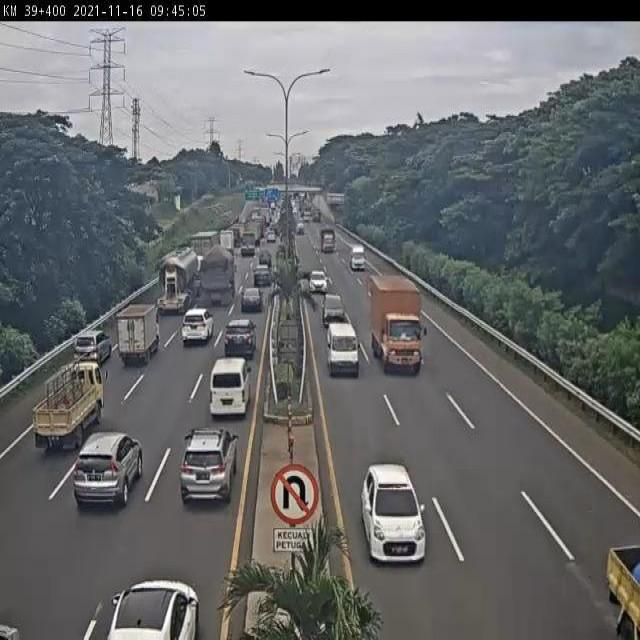car: (360, 464, 426, 563), (180, 430, 238, 510), (73, 437, 142, 503), (326, 320, 359, 375), (73, 331, 112, 366), (224, 319, 256, 356), (182, 310, 214, 346), (322, 292, 343, 325), (241, 285, 263, 315), (309, 268, 327, 292), (252, 265, 271, 287)
small bus: (204, 358, 247, 418)
small truck: (563, 536, 640, 640), (35, 363, 104, 456), (117, 304, 159, 365)
truck-l-: (196, 248, 236, 309), (190, 229, 222, 279)
truck-m-: (369, 272, 423, 375)
truck-xl-: (156, 244, 201, 315)
